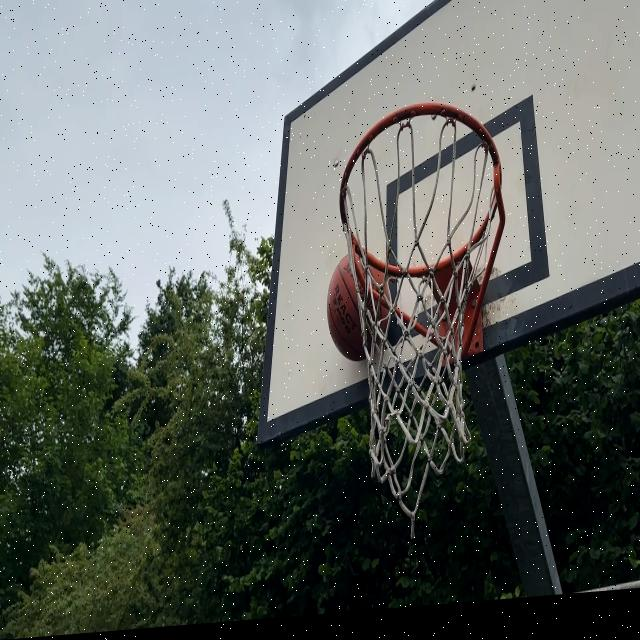rebound_hit: (328, 245, 389, 368)
